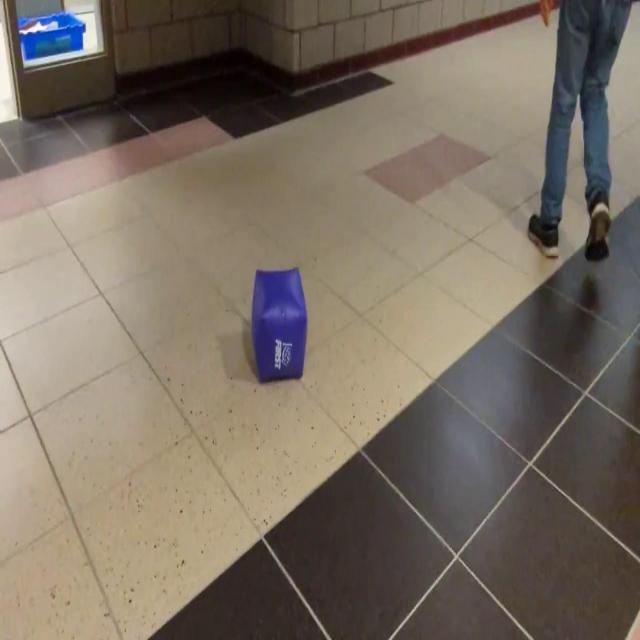frc_cube: (251, 265, 307, 382)
